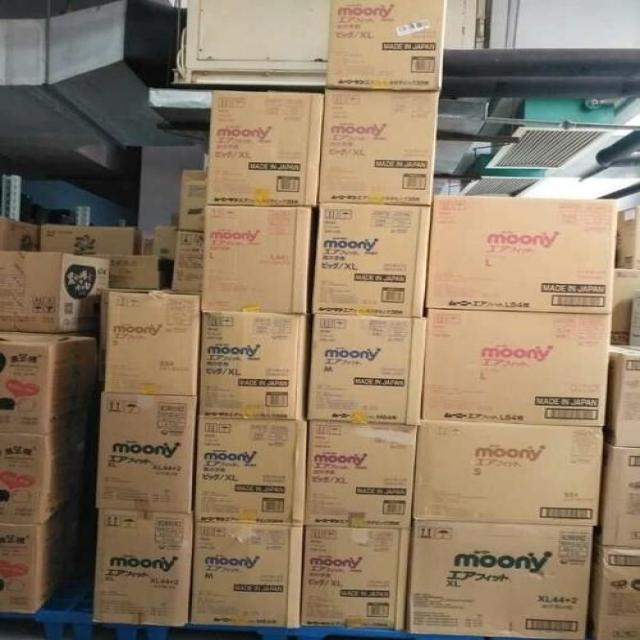box: (428, 194, 618, 314), (421, 309, 613, 426), (406, 520, 594, 639), (413, 420, 605, 527), (204, 90, 325, 207), (321, 90, 443, 206), (312, 202, 433, 318), (308, 314, 428, 425), (305, 420, 419, 530), (95, 392, 197, 514), (195, 418, 308, 526), (198, 311, 311, 419), (91, 510, 195, 627), (201, 205, 312, 314), (191, 522, 303, 628), (301, 526, 411, 629), (326, 0, 445, 91), (102, 288, 200, 395), (0, 331, 97, 435), (0, 418, 87, 524), (0, 251, 110, 333), (0, 501, 78, 612), (588, 543, 640, 640), (594, 442, 640, 547), (603, 344, 640, 447), (40, 225, 145, 256), (93, 254, 174, 289), (611, 268, 640, 344), (172, 229, 202, 292), (178, 169, 207, 232), (616, 206, 640, 269), (0, 217, 38, 251), (154, 225, 177, 260), (628, 291, 640, 345)
